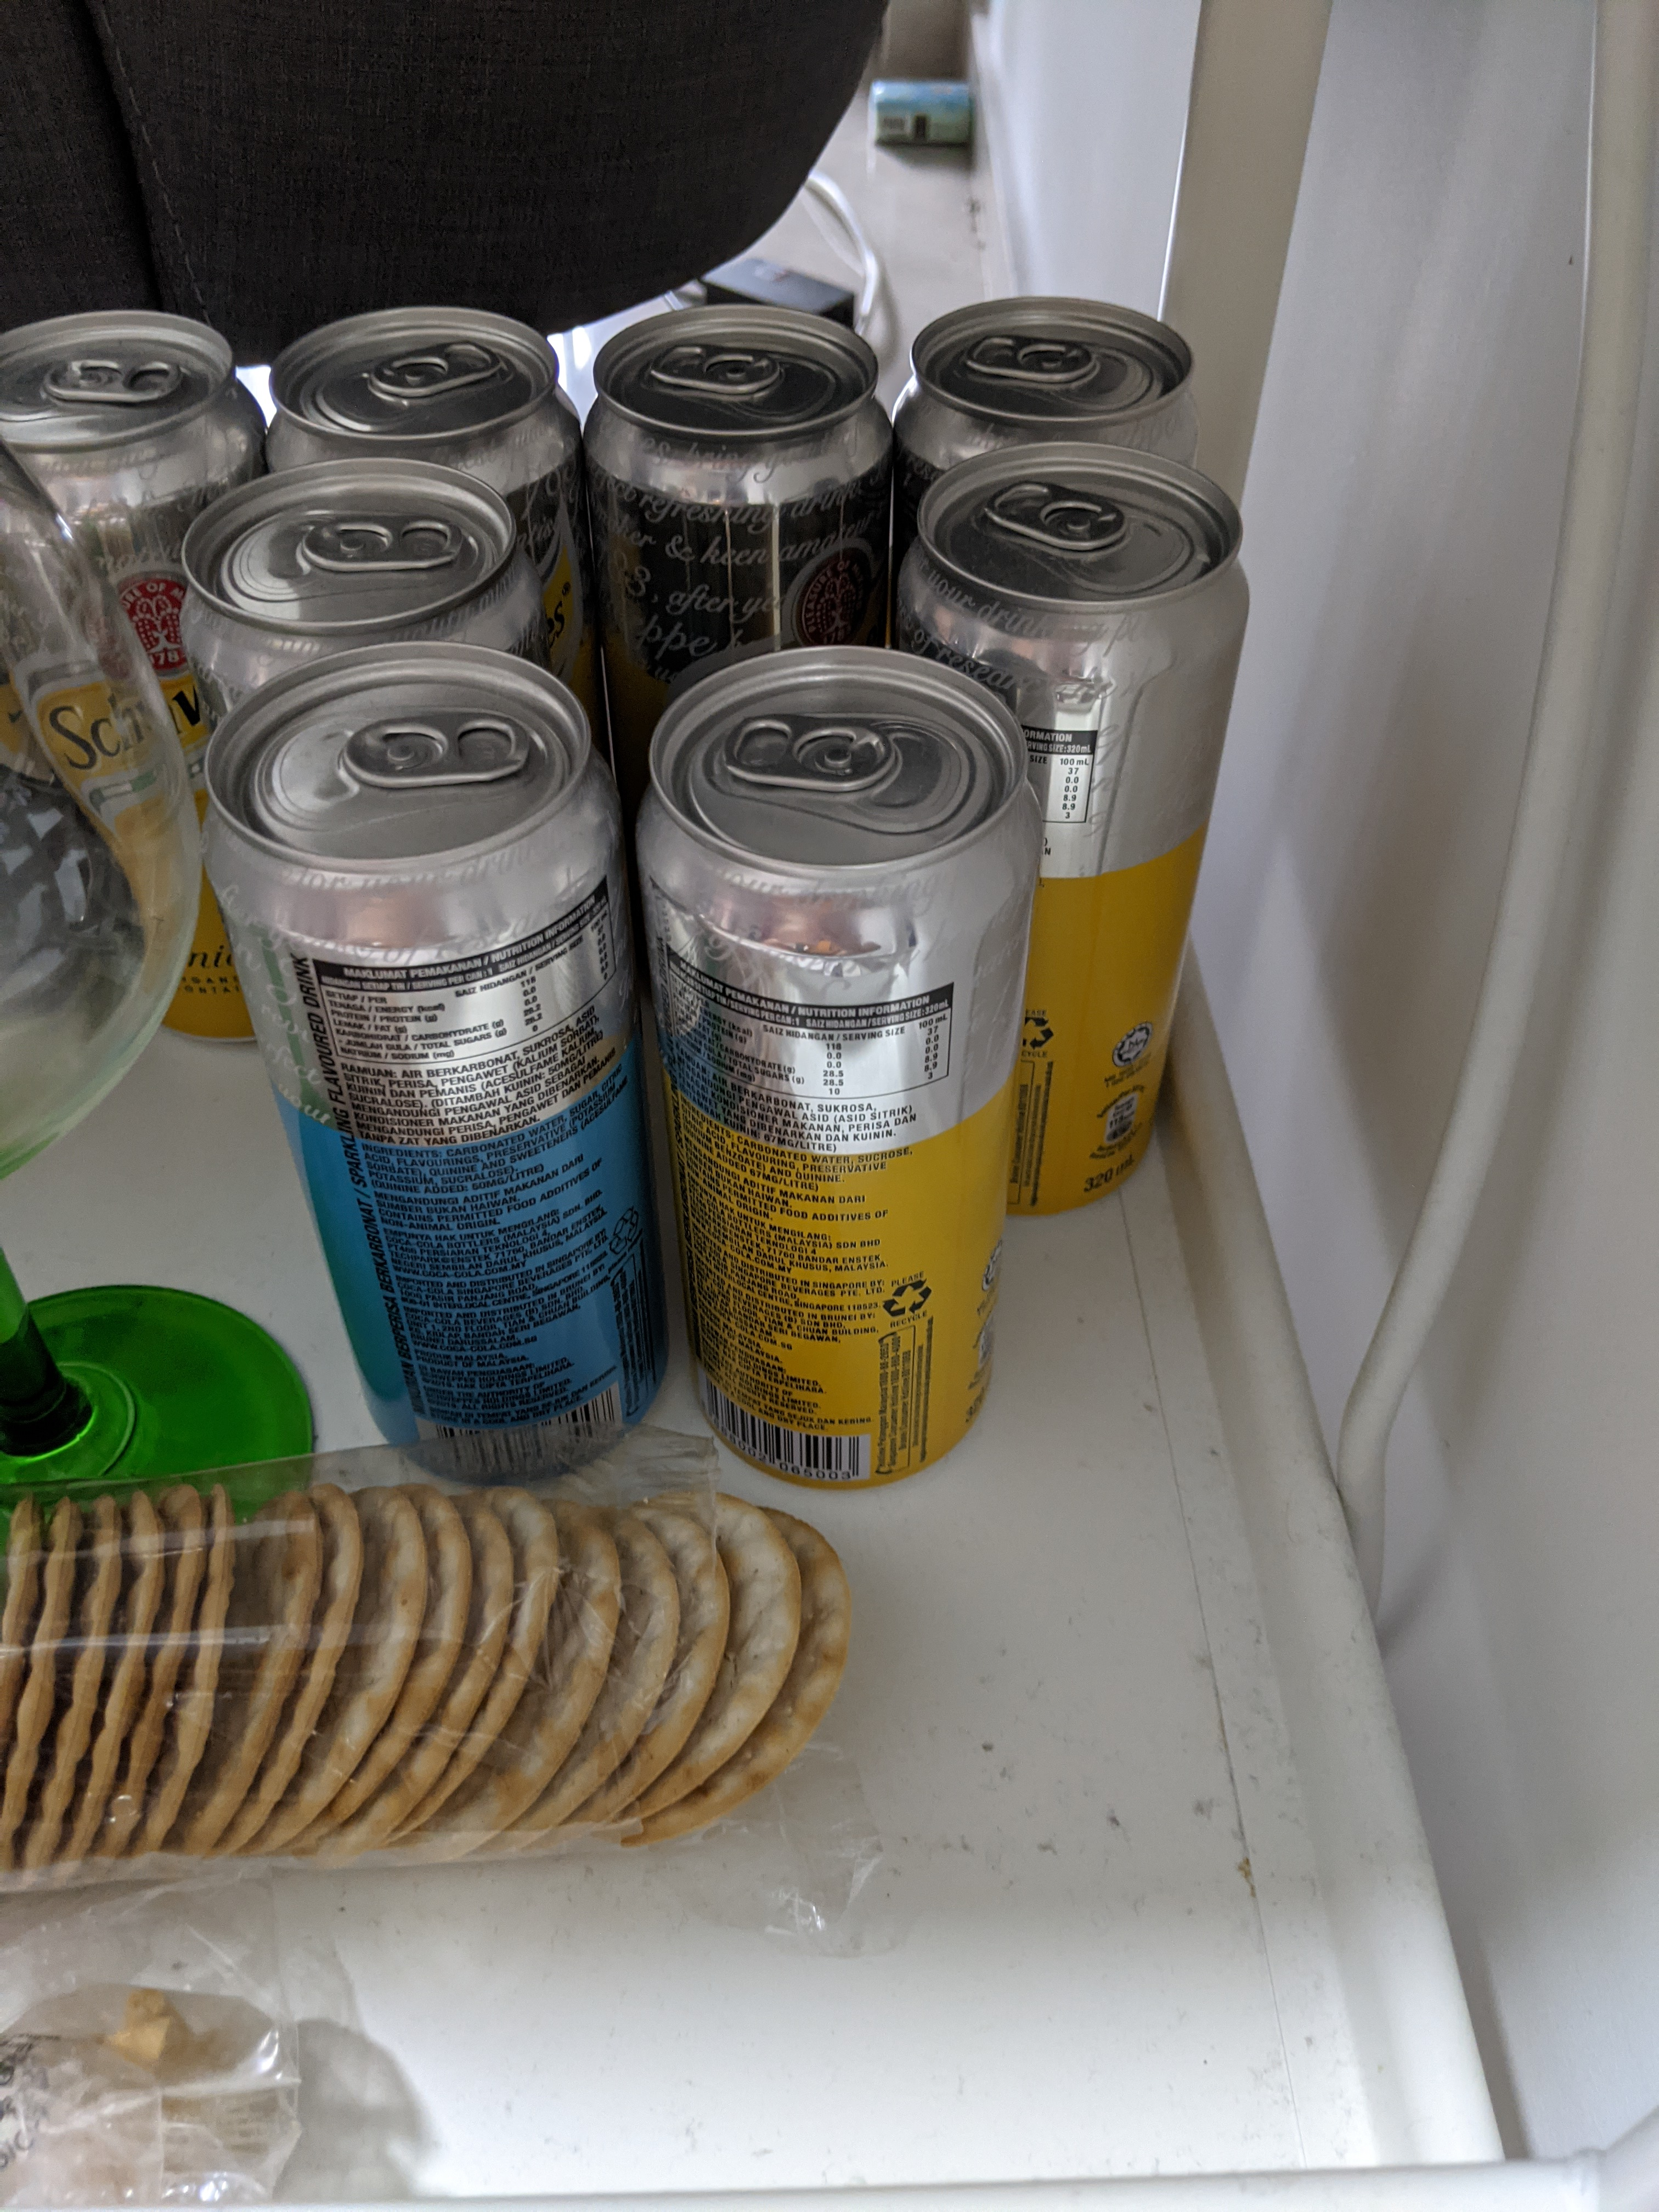schweppes drink can tonic water: (624, 632, 1072, 1519)
